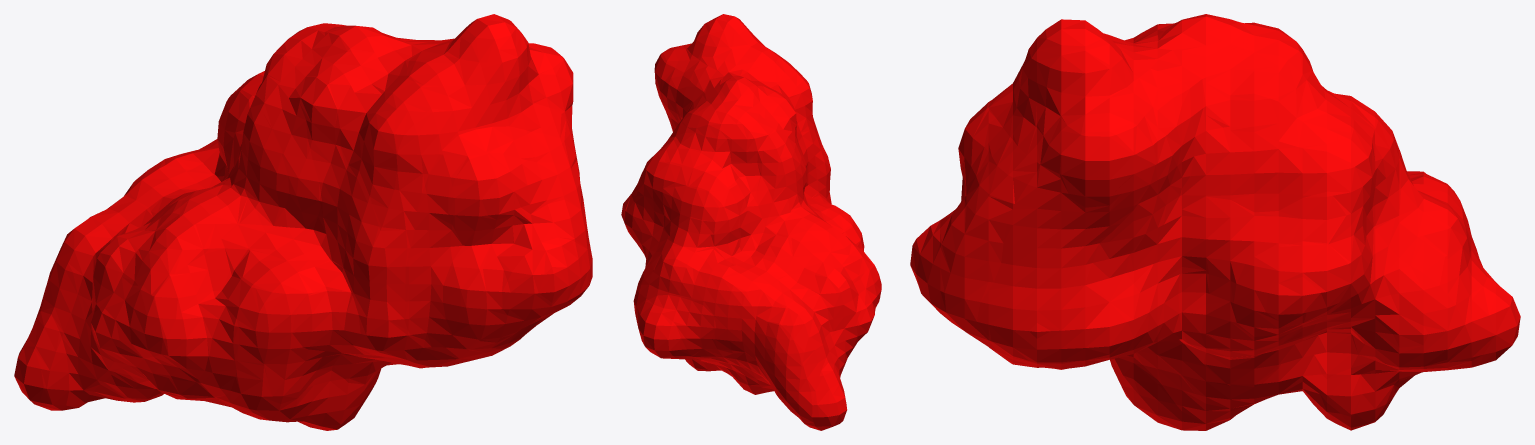
Rendered from rpiA_coarse.dae.
3 renders of one model, left to right at view 1: azimuth 30°, elevation 25°; view 2: azimuth 150°, elevation 25°; view 3: azimuth 270°, elevation 25°, orthographic. The views are drawn at different scales.
Visible parts, largest first — view 1: rpiA; view 2: rpiA; view 3: rpiA.
Part boxes in pixels (<box>): rpiA: <box>14,14,592,430</box>; rpiA: <box>621,14,881,430</box>; rpiA: <box>910,14,1520,430</box>.
Size of the model in its own units: 61.22 by 60.45 by 69.79.
